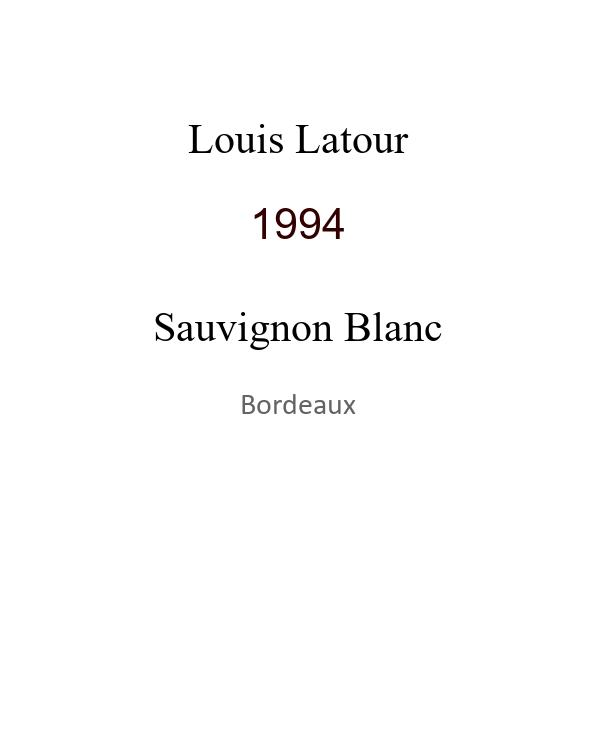brand: (188, 115, 409, 144)
region: (240, 391, 356, 411)
variety: (153, 303, 443, 341)
vintage: (250, 200, 346, 231)
